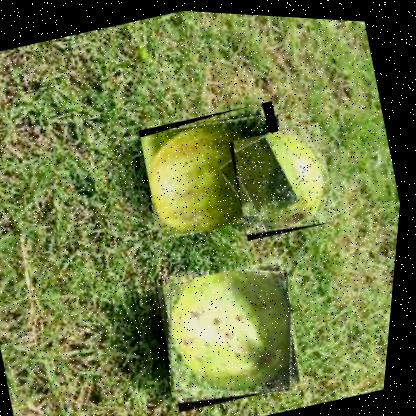guava: (150, 244, 321, 414), (132, 89, 305, 244), (222, 113, 348, 241)
